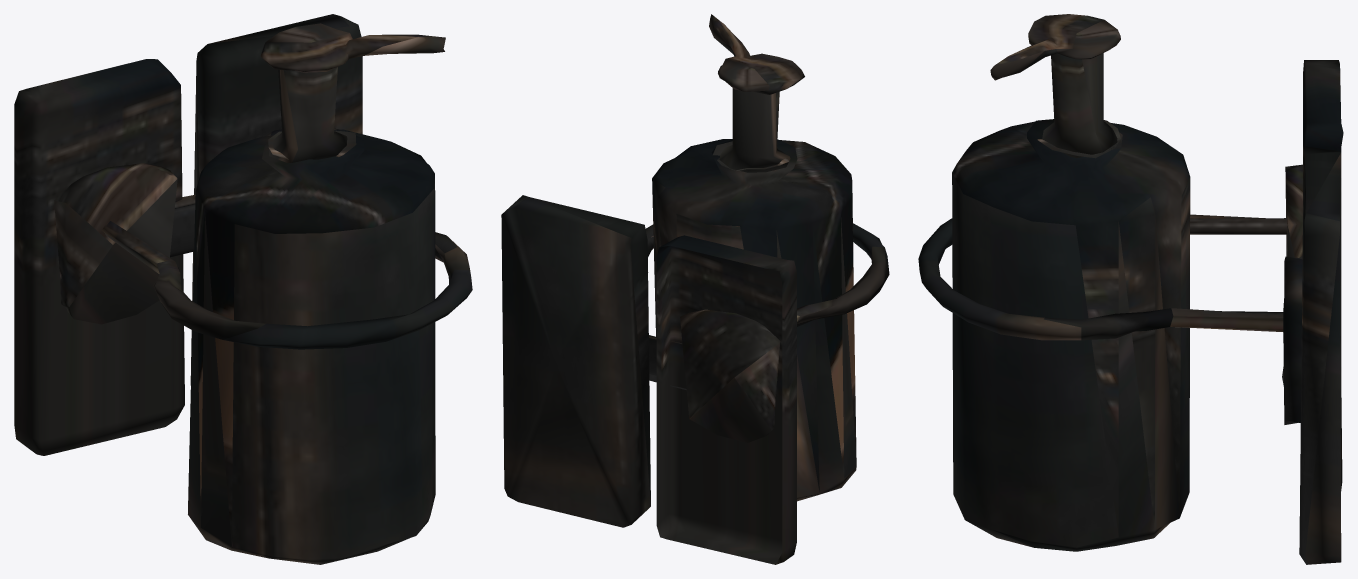
File: Restroom5.fbx
3 views of the same model, side by side, from view 1: azimuth 30°, elevation 25°; view 2: azimuth 150°, elevation 25°; view 3: azimuth 270°, elevation 25° (orthographic). The views are drawn at different scales.
Parts seen in each view (by area): view 1: Restroom5; view 2: Restroom5; view 3: Restroom5.
Part boxes in pixels (box(x1,y1,x2,y2)): Restroom5: box(14, 14, 472, 564); Restroom5: box(501, 14, 889, 564); Restroom5: box(918, 14, 1343, 564).
Size of the model in its own units: 119 by 164 by 131.
